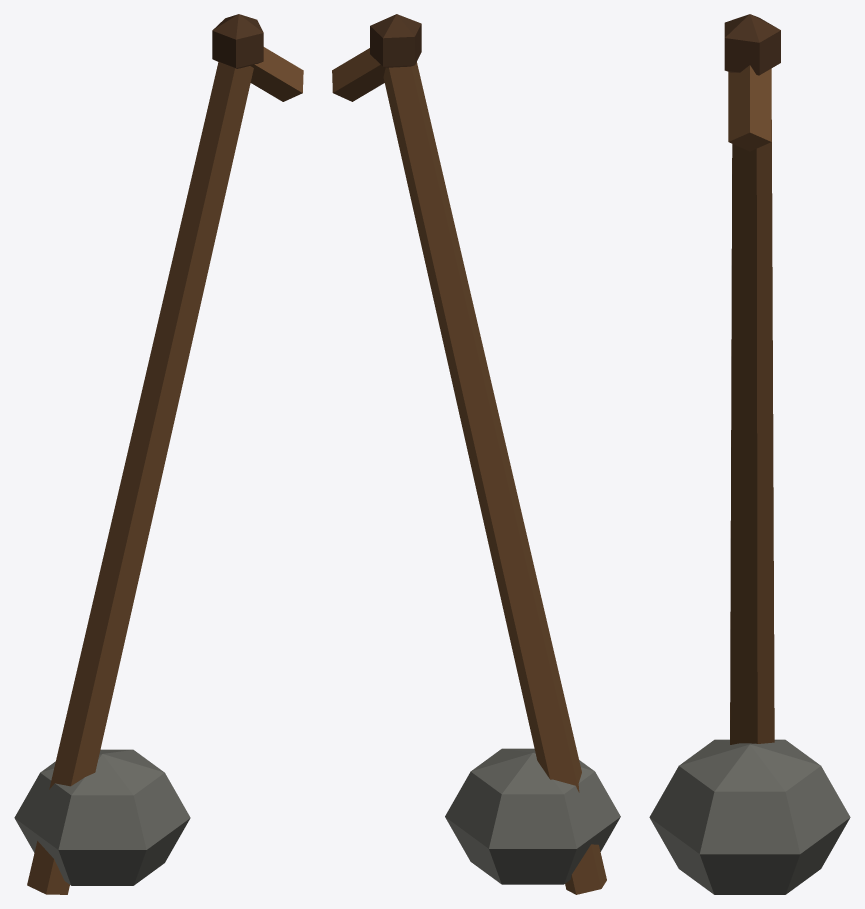
The model's file is prop_camp_staff.glb.
3 renders of one model, left to right at view 1: azimuth 30°, elevation 25°; view 2: azimuth 150°, elevation 25°; view 3: azimuth 270°, elevation 25°, orthographic. The views are drawn at different scales.
Parts seen in each view (by area): view 1: prop_camp_staff; view 2: prop_camp_staff; view 3: prop_camp_staff.
Boxes of the visible parts, box(x1,y1,x2,y2) form: prop_camp_staff: box(14, 14, 303, 894); prop_camp_staff: box(332, 14, 620, 894); prop_camp_staff: box(649, 14, 850, 894).
Bounding box in the file's own units: 0.501 × 1.46 × 0.28.
